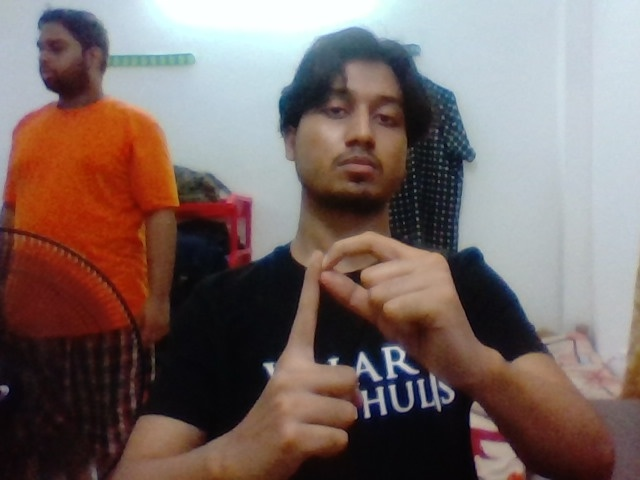P: (259, 229, 476, 453)
